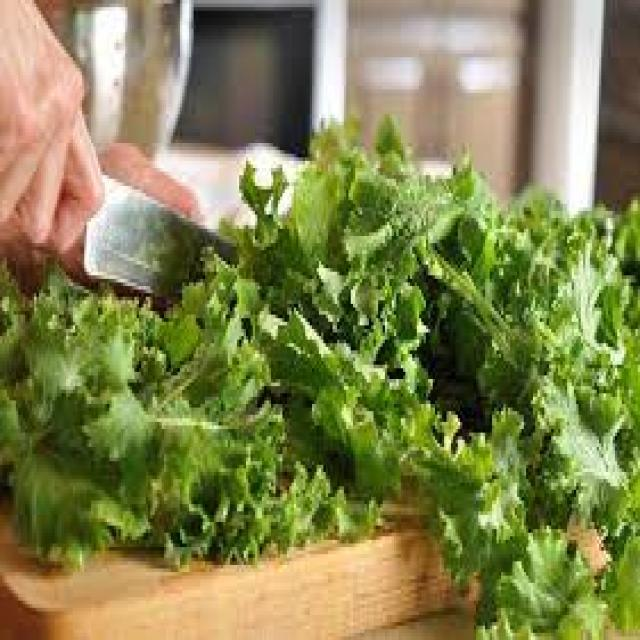organic waste: (0, 254, 369, 565), (419, 226, 638, 636), (230, 111, 503, 393), (451, 190, 638, 432), (255, 279, 458, 493)
